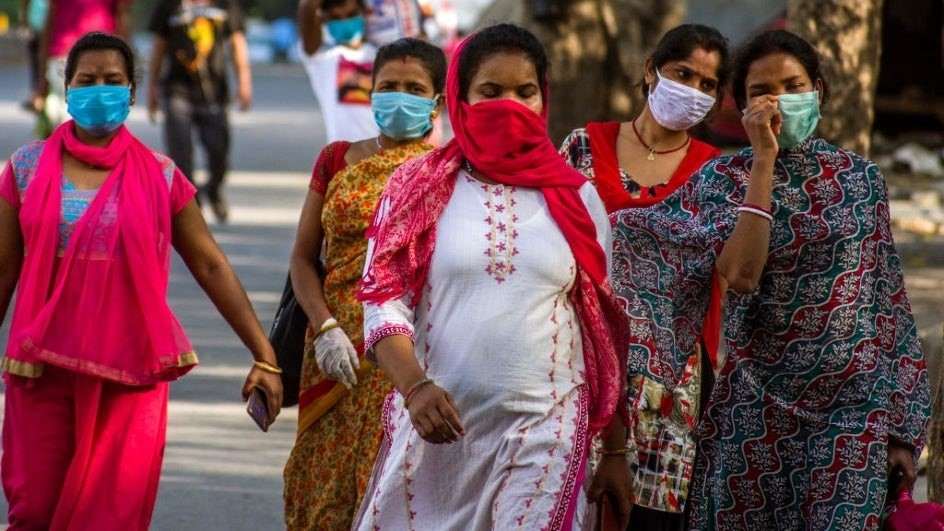face_with_mask: (739, 34, 825, 152), (645, 25, 724, 135), (367, 40, 438, 141), (63, 35, 132, 137)
